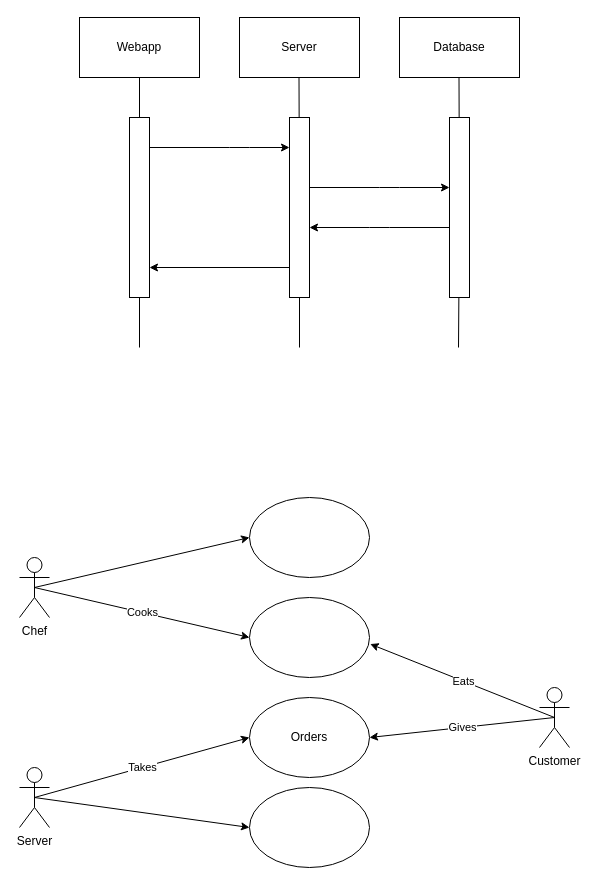
Some shapes in this 598 by 885 pixel diagram are drawn without their labels. The box of each missing label's shape, as (x1, y1, x2, y2) in pixels:
Clear tables: (248, 786, 370, 868)
Food: (248, 596, 370, 678)
Manage kitchen: (248, 496, 370, 578)
